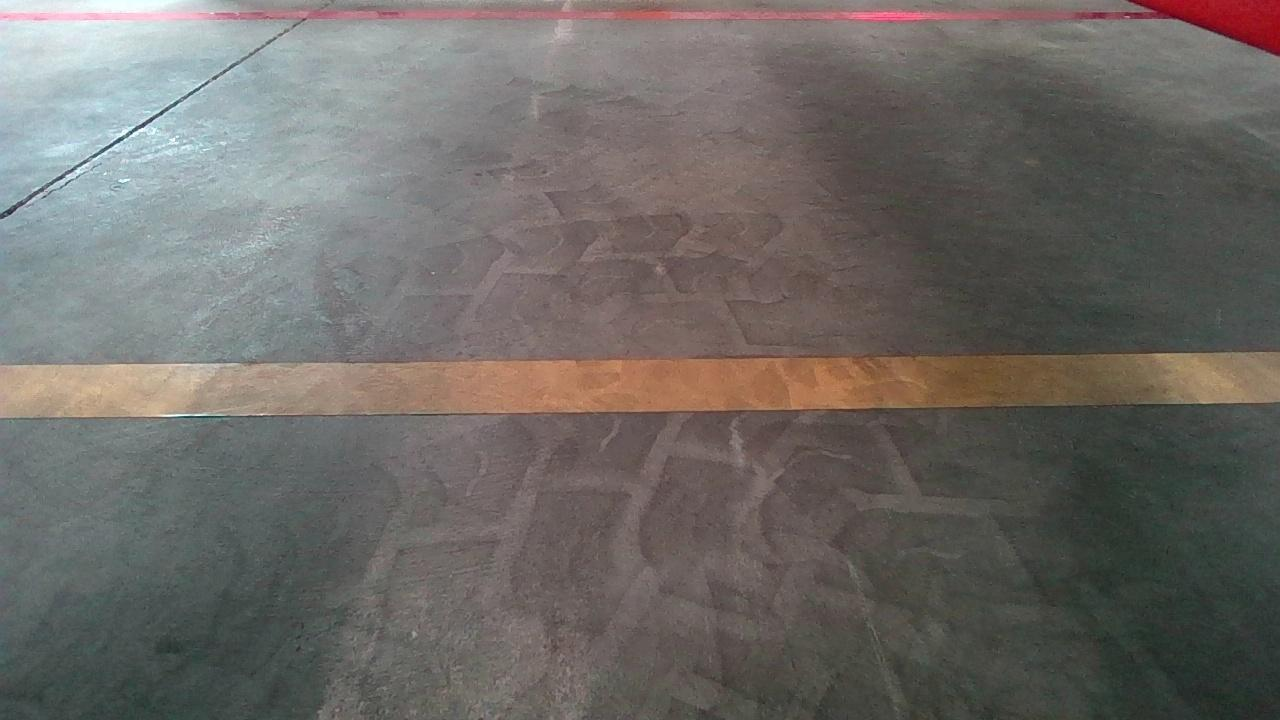yellow_line: (0, 349, 1277, 417)
